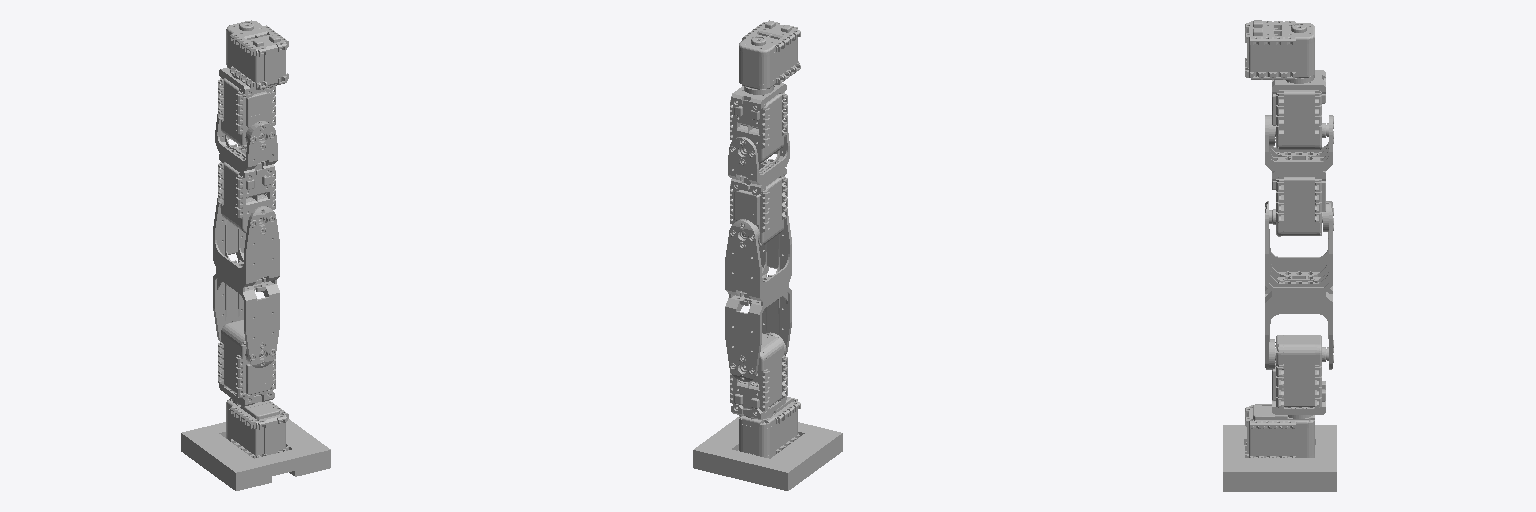
robot.urdf — robot_arm_description_urdfv2:
<?xml version="1.0" encoding="utf-8" ?>
<!-- This URDF was automatically created by SolidWorks to URDF Exporter! Originally created by [author] ([email redacted]) 
     Commit Version: 1.6.0-4-g7f85cfe  Build Version: 1.6.7995.38578
     For more information, please see http://wiki.ros.org/sw_urdf_exporter -->
<robot name="robot_arm_description_urdfv2">
    <link name="world" />
    <link name="base_link">
        <inertial>
            <origin xyz="-1.07538455533607E-05 -0.0117775627705684 0.0125372666058965" rpy="0 0 0" />
            <mass value="0.121294608566647" />
            <inertia ixx="5.94662409994371E-05" ixy="1.49860101831399E-09" ixz="1.03128418712731E-08" iyy="0.00010654266000446" iyz="-5.79668025781034E-07" izz="5.77712338448447E-05" />
        </inertial>
        <visual>
            <origin xyz="0 0 0" rpy="0 0 0" />
            <geometry>
                <mesh filename="package://robot_arm_description_urdfv2/meshes/base_link.STL" />
            </geometry>
            <material name="">
                <color rgba="0.752941176470588 0.752941176470588 0.752941176470588 1" />
            </material>
        </visual>
        <collision>
            <origin xyz="0 0 0" rpy="0 0 0" />
            <geometry>
                <mesh filename="package://robot_arm_description_urdfv2/meshes/base_link.STL" />
            </geometry>
        </collision>
    </link>
    <link name="link1">
        <inertial>
            <origin xyz="-2.94146434273942E-05 0.0269920612128342 0.00083220015368552" rpy="0 0 0" />
            <mass value="0.046254192075235" />
            <inertia ixx="1.20007548215275E-05" ixy="-1.01847426522444E-08" ixz="1.49860101831212E-09" iyy="6.96980725196722E-06" iyz="1.90997297443396E-07" izz="1.02170843157012E-05" />
        </inertial>
        <visual>
            <origin xyz="0 0 0" rpy="0 0 0" />
            <geometry>
                <mesh filename="package://robot_arm_description_urdfv2/meshes/link1.STL" />
            </geometry>
            <material name="">
                <color rgba="0.752941176470588 0.752941176470588 0.752941176470588 1" />
            </material>
        </visual>
        <collision>
            <origin xyz="0 0 0" rpy="0 0 0" />
            <geometry>
                <mesh filename="package://robot_arm_description_urdfv2/meshes/link1.STL" />
            </geometry>
        </collision>
    </link>
    <joint name="joint0" type="revolute">
        <origin xyz="0 0 0.021" rpy="1.5708 0 0" />
        <parent link="base_link" />
        <child link="link1" />
        <axis xyz="0 1 0" />
        <limit lower="-2.61" upper="2.61" effort="0" velocity="0" />
    </joint>
    <link name="link2">
        <inertial>
            <origin xyz="2.76858768055946E-17 0.0536999999999999 5.93505709235589E-08" rpy="0 0 0" />
            <mass value="0.0263111889052218" />
            <inertia ixx="1.84432474694819E-05" ixy="-1.59528870360902E-07" ixz="1.06205790125261E-21" iyy="1.20154219536201E-05" iyz="-5.95911253040858E-21" izz="1.04675257240632E-05" />
        </inertial>
        <visual>
            <origin xyz="0 0 0" rpy="0 0 0" />
            <geometry>
                <mesh filename="package://robot_arm_description_urdfv2/meshes/link2.STL" />
            </geometry>
            <material name="">
                <color rgba="0.752941176470588 0.752941176470588 0.752941176470588 1" />
            </material>
        </visual>
        <collision>
            <origin xyz="0 0 0" rpy="0 0 0" />
            <geometry>
                <mesh filename="package://robot_arm_description_urdfv2/meshes/link2.STL" />
            </geometry>
        </collision>
    </link>
    <joint name="joint1" type="revolute">
        <origin xyz="0 0.0415 0" rpy="0 0 0" />
        <parent link="link1" />
        <child link="link2" />
        <axis xyz="0 0 1" />
        <limit lower="-2.61" upper="2.61" effort="0" velocity="0" />
    </joint>
    <link name="link3">
        <inertial>
            <origin xyz="-2.36223752053624E-05 0.019670540731061 -0.00071887656433675" rpy="0 0 0" />
            <mass value="0.0535456956908988" />
            <inertia ixx="1.52363550556999E-05" ixy="1.0284004752853E-08" ixz="-1.49860100269963E-09" iyy="9.84641724307731E-06" iyz="1.90997297450323E-07" izz="1.14429253130876E-05" />
        </inertial>
        <visual>
            <origin xyz="0 0 0" rpy="0 0 0" />
            <geometry>
                <mesh filename="package://robot_arm_description_urdfv2/meshes/link3.STL" />
            </geometry>
            <material name="">
                <color rgba="0.752941176470588 0.752941176470588 0.752941176470588 1" />
            </material>
        </visual>
        <collision>
            <origin xyz="0 0 0" rpy="0 0 0" />
            <geometry>
                <mesh filename="package://robot_arm_description_urdfv2/meshes/link3.STL" />
            </geometry>
        </collision>
    </link>
    <joint name="joint2" type="revolute">
        <origin xyz="0 0.1074 0" rpy="0 0 0" />
        <parent link="link2" />
        <child link="link3" />
        <axis xyz="0 0 1" />
        <limit lower="-2.61" upper="2.61" effort="0" velocity="0" />
    </joint>
    <link name="link4">
        <inertial>
            <origin xyz="2.69860168570977E-05 0.0145079387871658 0.000832200153683097" rpy="0 0 0" />
            <mass value="0.046254192075235" />
            <inertia ixx="1.20007548215275E-05" ixy="-1.04409410903087E-08" ixz="-1.4986010182921E-09" iyy="6.96980725196721E-06" iyz="-1.90997297443369E-07" izz="1.02170843157012E-05" />
        </inertial>
        <visual>
            <origin xyz="0 0 0" rpy="0 0 0" />
            <geometry>
                <mesh filename="package://robot_arm_description_urdfv2/meshes/link4.STL" />
            </geometry>
            <material name="">
                <color rgba="0.752941176470588 0.752941176470588 0.752941176470588 1" />
            </material>
        </visual>
        <collision>
            <origin xyz="0 0 0" rpy="0 0 0" />
            <geometry>
                <mesh filename="package://robot_arm_description_urdfv2/meshes/link4.STL" />
            </geometry>
        </collision>
    </link>
    <joint name="joint3" type="revolute">
        <origin xyz="0 0.0675 0" rpy="0 0 0" />
        <parent link="link3" />
        <child link="link4" />
        <axis xyz="0 0 1" />
        <limit lower="-2.61" upper="2.61" effort="0" velocity="0" />
    </joint>
    <link name="link5">
        <inertial>
            <origin xyz="-3.04816214619362E-05 -0.0127516759226218 -0.0200450812719365" rpy="0 0 0" />
            <mass value="0.0427924573691145" />
            <inertia ixx="1.15260270483126E-05" ixy="-1.03128418712644E-08" ixz="1.49860101831276E-09" iyy="6.31498109388928E-06" iyz="1.90997297443399E-07" izz="1.00126420725118E-05" />
        </inertial>
        <visual>
            <origin xyz="0 0 0" rpy="0 0 0" />
            <geometry>
                <mesh filename="package://robot_arm_description_urdfv2/meshes/link5.STL" />
            </geometry>
            <material name="">
                <color rgba="0.752941176470588 0.752941176470588 0.752941176470588 1" />
            </material>
        </visual>
        <collision>
            <origin xyz="0 0 0" rpy="0 0 0" />
            <geometry>
                <mesh filename="package://robot_arm_description_urdfv2/meshes/link5.STL" />
            </geometry>
        </collision>
    </link>
    <joint name="joint4" type="revolute">
        <origin xyz="0 0.041449 0" rpy="-1.5708 0 3.1416" />
        <parent link="link4" />
        <child link="link5" />
        <axis xyz="0 0 1" />
        <limit lower="-2.61" upper="2.61" effort="0" velocity="0" />
    </joint>
    <joint name="fixed_joint" type="fixed">
        <origin xyz="0 0 0" rpy="0 0 0" />
        <parent link="world" />
        <child link="base_link" />
    </joint>
    <transmission name="trans_joint0">
        <type>transmission_interface/SimpleTransmission</type>
        <joint name="joint0">
            <hardwareInterface>hardware_interface/EffortJointInterface</hardwareInterface>
        </joint>
        <actuator name="joint0_motor">
            <hardwareInterface>hardware_interface/EffortJointInterface</hardwareInterface>
            <mechanicalReduction>1</mechanicalReduction>
        </actuator>
    </transmission>
    <transmission name="trans_joint1">
        <type>transmission_interface/SimpleTransmission</type>
        <joint name="joint1">
            <hardwareInterface>hardware_interface/EffortJointInterface</hardwareInterface>
        </joint>
        <actuator name="joint1_motor">
            <hardwareInterface>hardware_interface/EffortJointInterface</hardwareInterface>
            <mechanicalReduction>1</mechanicalReduction>
        </actuator>
    </transmission>
    <transmission name="trans_joint2">
        <type>transmission_interface/SimpleTransmission</type>
        <joint name="joint2">
            <hardwareInterface>hardware_interface/EffortJointInterface</hardwareInterface>
        </joint>
        <actuator name="joint2_motor">
            <hardwareInterface>hardware_interface/EffortJointInterface</hardwareInterface>
            <mechanicalReduction>1</mechanicalReduction>
        </actuator>
    </transmission>
    <transmission name="trans_joint3">
        <type>transmission_interface/SimpleTransmission</type>
        <joint name="joint3">
            <hardwareInterface>hardware_interface/EffortJointInterface</hardwareInterface>
        </joint>
        <actuator name="joint3_motor">
            <hardwareInterface>hardware_interface/EffortJointInterface</hardwareInterface>
            <mechanicalReduction>1</mechanicalReduction>
        </actuator>
    </transmission>
    <transmission name="trans_joint4">
        <type>transmission_interface/SimpleTransmission</type>
        <joint name="joint4">
            <hardwareInterface>hardware_interface/EffortJointInterface</hardwareInterface>
        </joint>
        <actuator name="joint4_motor">
            <hardwareInterface>hardware_interface/EffortJointInterface</hardwareInterface>
            <mechanicalReduction>1</mechanicalReduction>
        </actuator>
    </transmission>
    <gazebo>
        <plugin name="gazebo_ros_control">
            <robotNamespace>/</robotNamespace>
        </plugin>
    </gazebo>
</robot>

--- Render facts (derived) ---
3 views of the same robot in one strip: view 1: azimuth 30°, elevation 25°; view 2: azimuth 150°, elevation 25°; view 3: azimuth 270°, elevation 25° (orthographic).
Robot: robot_arm_description_urdfv2 — 7 links, 6 joints (5 revolute, 1 fixed); root link world; default pose: every joint at zero.
Visible links, largest first — view 1: base_link, link2, link3, link5, link1, link4; view 2: link2, base_link, link3, link5, link4, link1; view 3: base_link, link3, link2, link1, link5, link4.
Link boxes in pixels (left/top/right/bottom): base_link: left=181, top=397, right=330, bottom=490; link2: left=213, top=198, right=279, bottom=367; link3: left=215, top=114, right=277, bottom=232; link5: left=226, top=20, right=288, bottom=89; link1: left=218, top=320, right=275, bottom=406; link4: left=218, top=68, right=275, bottom=148; link2: left=725, top=212, right=791, bottom=381; base_link: left=693, top=397, right=842, bottom=490; link3: left=728, top=133, right=789, bottom=246; link5: left=739, top=20, right=800, bottom=94; link4: left=730, top=83, right=787, bottom=163; link1: left=730, top=332, right=787, bottom=419; base_link: left=1223, top=404, right=1336, bottom=491; link3: left=1265, top=115, right=1333, bottom=236; link2: left=1265, top=201, right=1333, bottom=369; link1: left=1269, top=335, right=1328, bottom=414; link5: left=1245, top=20, right=1314, bottom=83; link4: left=1269, top=70, right=1328, bottom=149.
Bounding box of the posed robot: 0.08 × 0.08 × 0.3449 m (x, y, z).
6 mesh visuals loaded from 6 distinct referenced files (6 binary STL).